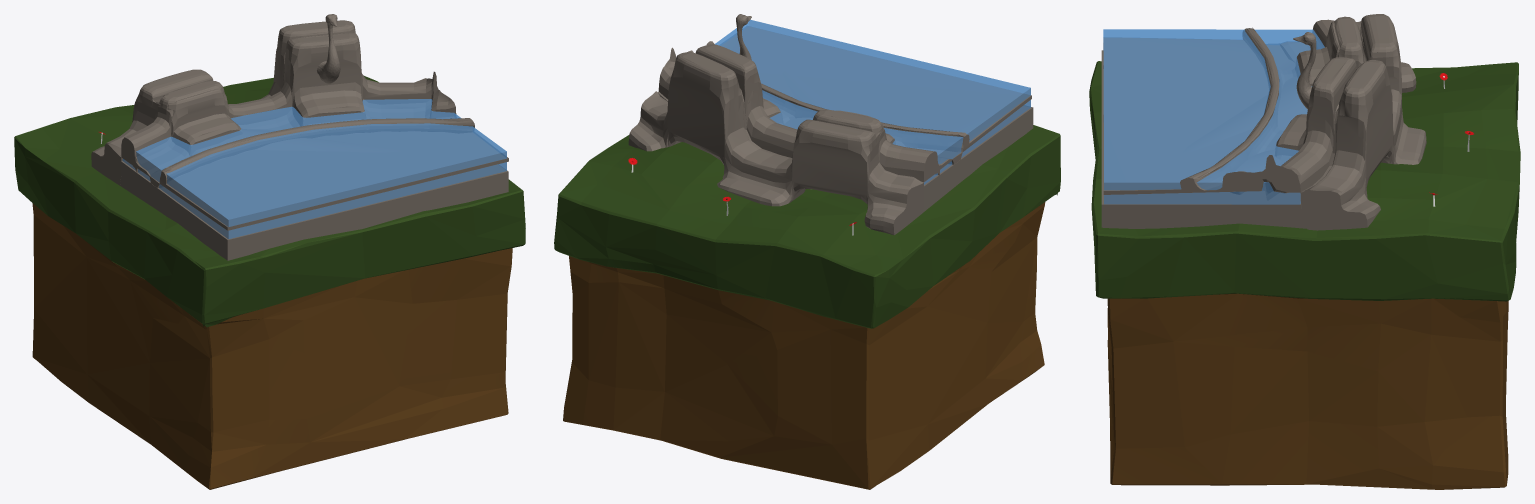
Rendered from L2.min.gltf.
The picture shows the model from 3 angles, left to right: view 1: azimuth 30°, elevation 25°; view 2: azimuth 150°, elevation 25°; view 3: azimuth 270°, elevation 25°; orthographic projection. The views are drawn at different scales.
Parts seen in each view (by area): view 1: CENTERED.012; view 2: CENTERED.012; view 3: CENTERED.012.
Boxes of the visible parts, x1,y1,x2,y2 form: CENTERED.012: (14,14,525,489); CENTERED.012: (554,14,1060,489); CENTERED.012: (1089,14,1520,489).
Bounding box in the file's own units: 1.07 × 1.13 × 1.09.
